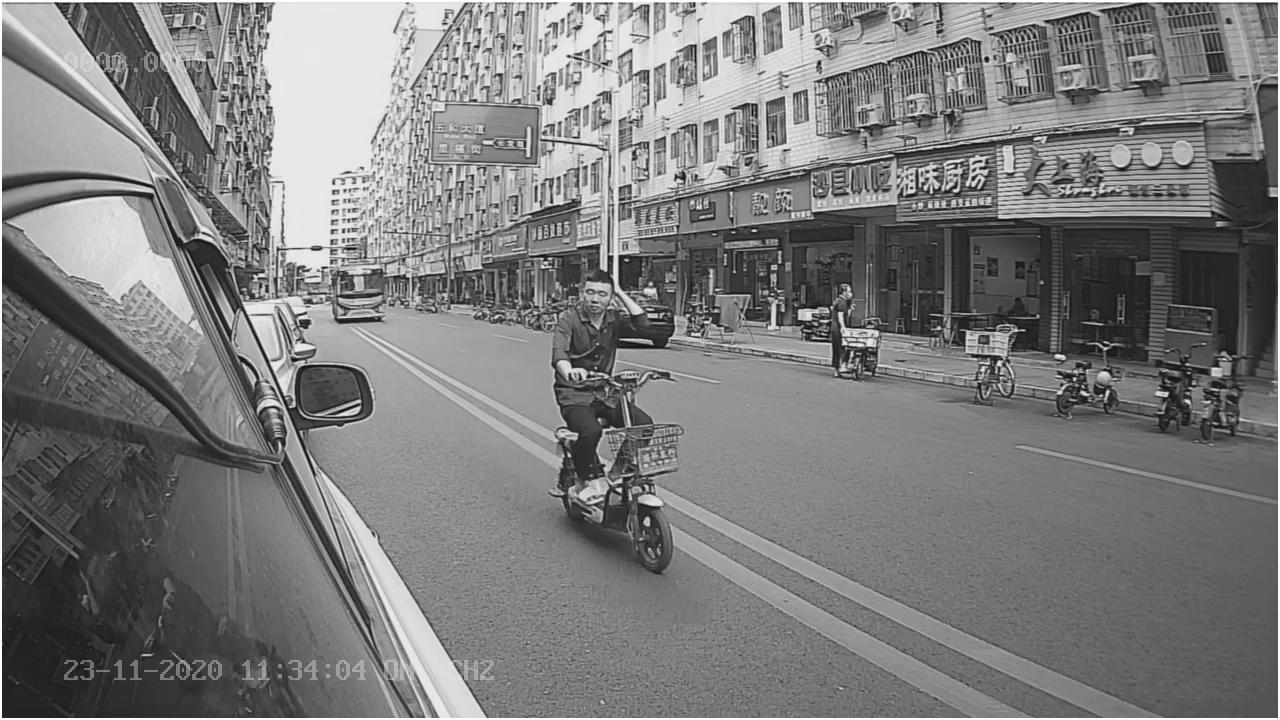person: (550, 261, 651, 385)
